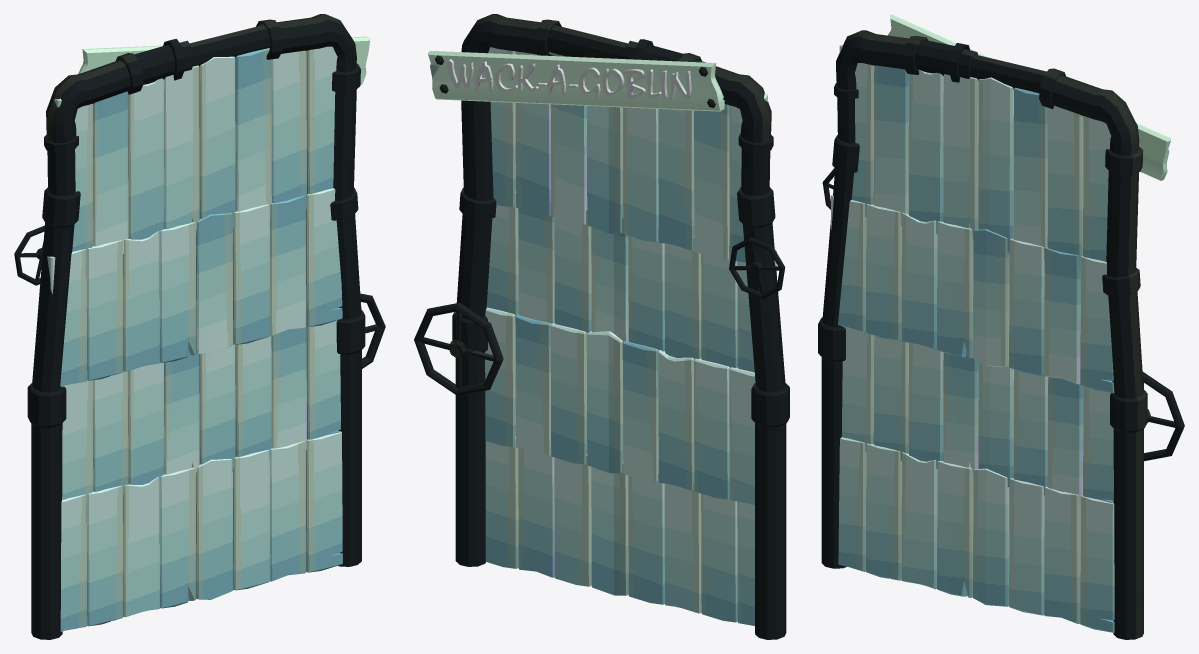
File: SM_WackamoleWall.fbx
3 views of the same model, side by side, from view 1: azimuth 30°, elevation 25°; view 2: azimuth 150°, elevation 25°; view 3: azimuth 330°, elevation 25° (orthographic). The views are drawn at different scales.
Parts seen in each view (by area): view 1: WackaMoleWal:WallGoblinWack; view 2: WackaMoleWal:WallGoblinWack; view 3: WackaMoleWal:WallGoblinWack.
Part boxes in pixels (x1,y1,x2,y2): WackaMoleWal:WallGoblinWack: [14, 14, 385, 639]; WackaMoleWal:WallGoblinWack: [414, 14, 789, 639]; WackaMoleWal:WallGoblinWack: [818, 14, 1184, 639].
Bounding box in the file's own units: 202 × 296 × 21.61.
